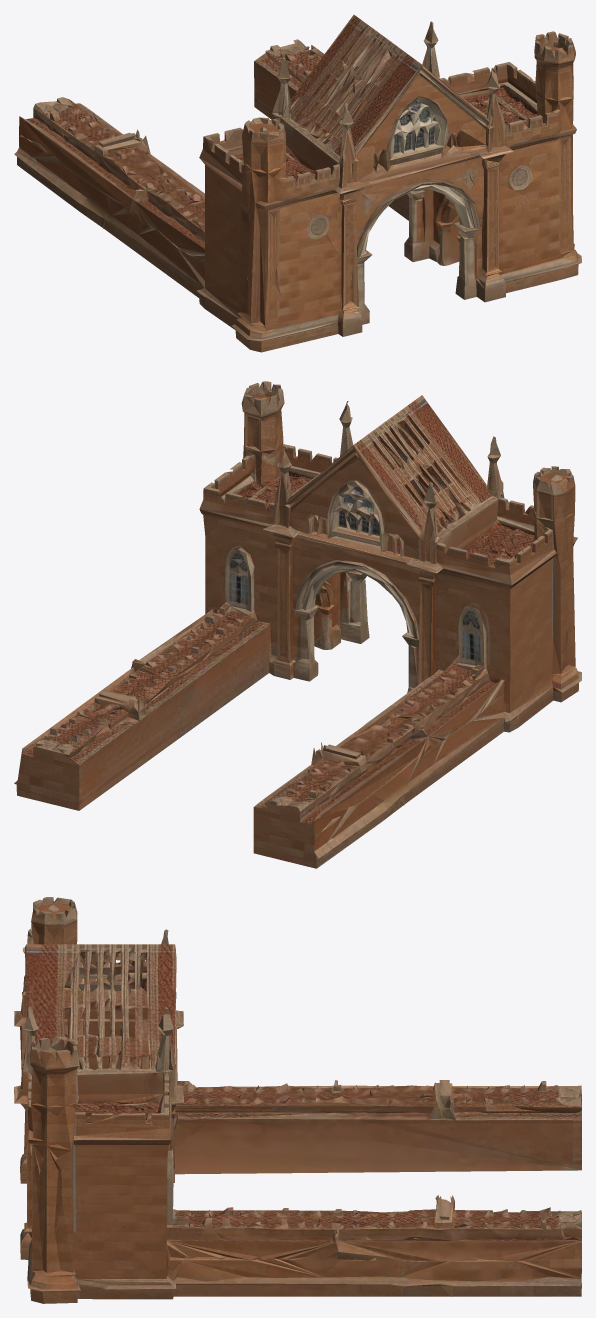
The model's file is arch.glb.
The picture shows the model from 3 angles, top to bottom: view 1: azimuth 30°, elevation 25°; view 2: azimuth 150°, elevation 25°; view 3: azimuth 270°, elevation 25°; orthographic projection. The views are drawn at different scales.
Bounding box in the file's own units: 1.41 × 1.01 × 1.9.
1 material, 1 textured.
